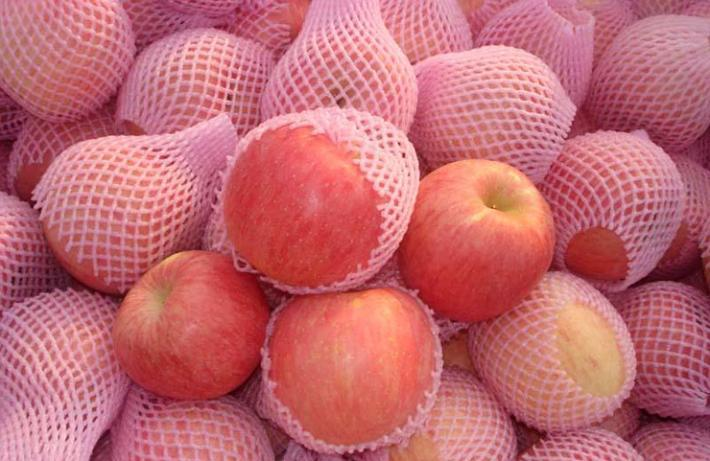apple: (396, 159, 555, 324), (223, 124, 381, 287), (279, 287, 437, 441), (112, 254, 273, 405)
